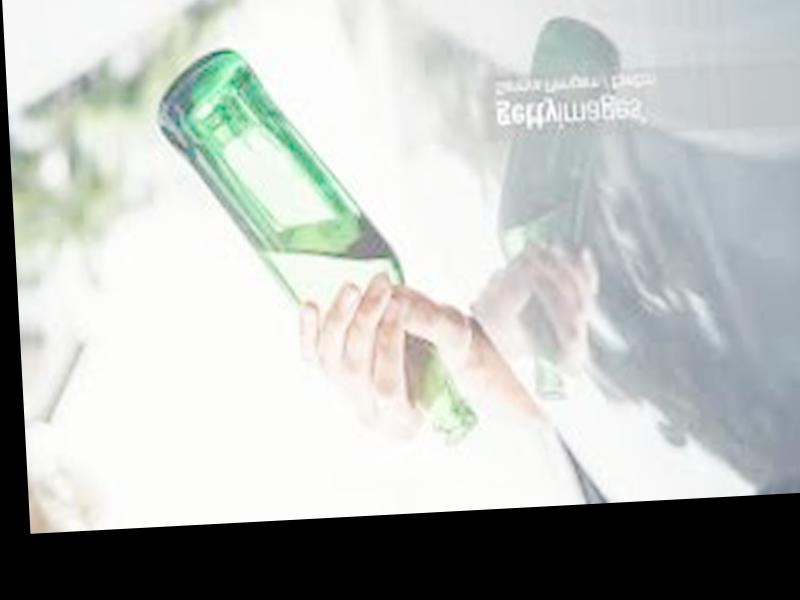Beer: (154, 37, 483, 453)
